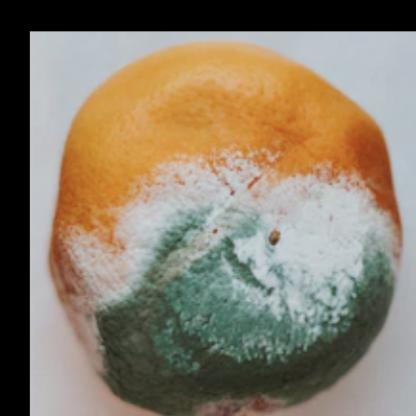rotten: (53, 43, 402, 416)
